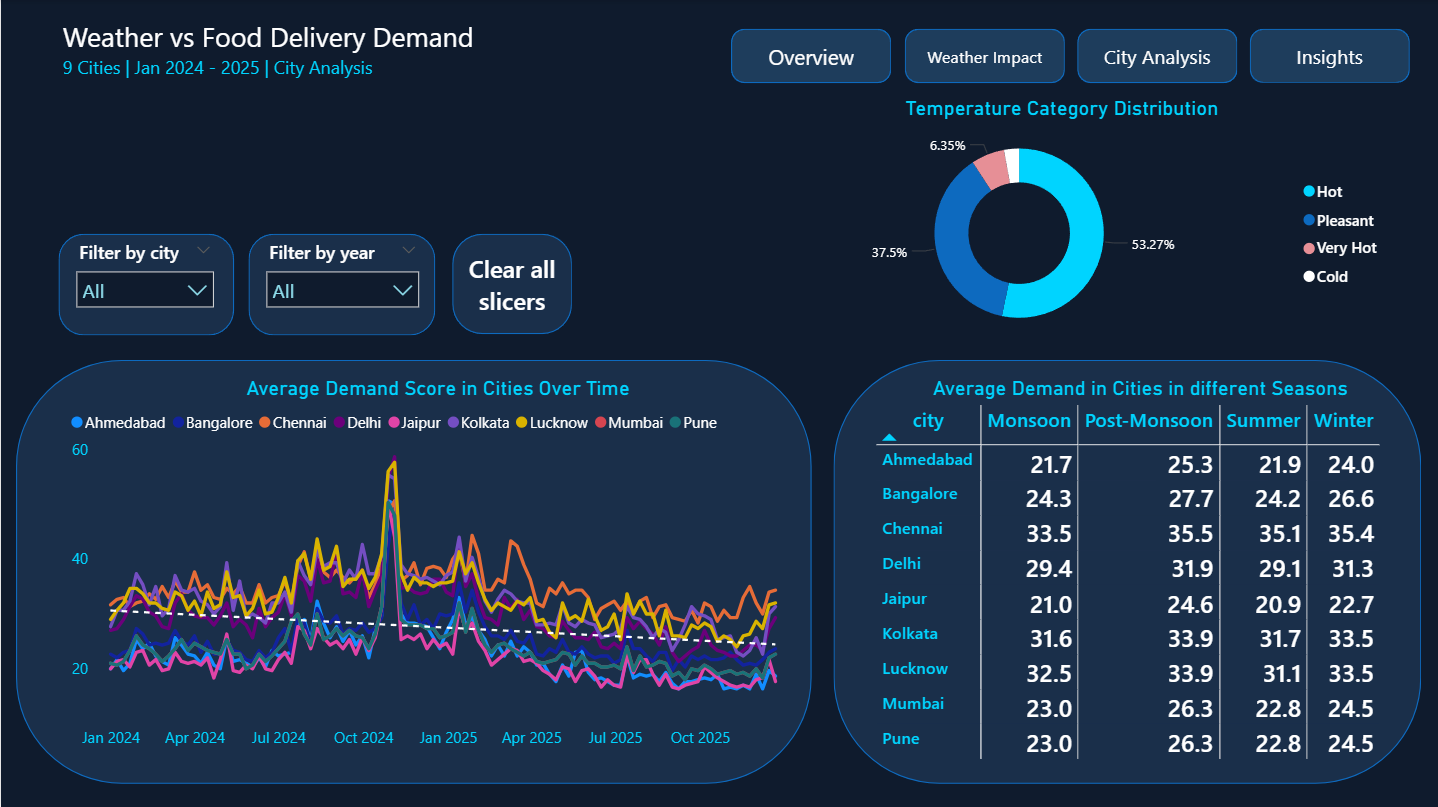

The page's visual inventory and layout, read from the dashboard file:
{"tool":"powerbi","page":{"name":"City Analysis","canvas":[1280,720],"ordinal":2},"visuals":[{"type":"actionButton","title":"Over","box":[650.4,26.1,142.7,48.4],"z":0},{"type":"actionButton","title":"Over","box":[804.4,26.1,142.7,48.4],"z":1000},{"type":"actionButton","title":"Over","box":[958.3,26.1,142.7,48.4],"z":2000},{"type":"actionButton","title":"Over","box":[1112.6,26,142.6,48.4],"z":3000},{"type":"shape","box":[13,321,708.6,377.4],"z":4000},{"type":"lineChart","title":"Average Demand Score in Cities Over Time","fields":{"Y":["Avg(weather_demand_final.demand_score)"],"Category":["weather_demand_final.date.Variation.Date Hierarchy.Year","weather_demand_final.date.Variation.Date Hierarchy.Quarter","weather_demand_final.date.Variation.Date Hierarchy.Month","weather_demand_final.date.Variation.Date Hierarchy.Day"],"Series":["weather_demand_final.city"]},"box":[56.4,335.5,665.2,341.3],"z":5000},{"type":"shape","box":[741.8,321,523.5,377.4],"z":6000},{"type":"pivotTable","title":"Average Demand in Cities in different Seasons","fields":{"Rows":["weather_demand_final.city"],"Columns":["weather_demand_final.season"],"Values":["weather_demand_final.Average demand score"]},"box":[775.1,335.5,480.1,363],"z":7000},{"type":"donutChart","title":"Temperature Category Distribution","fields":{"Category":["weather_demand_final.temp_category"],"Y":["CountNonNull(weather_demand_final.temp_category)"]},"box":[650.4,85.6,589.6,223.4],"z":8000},{"type":"shape","box":[50.9,208.5,156.4,90.6],"z":9000},{"type":"shape","box":[220.9,208.5,166.3,90.6],"z":10000},{"type":"slicer","fields":{"Values":["weather_demand_final.city"]},"box":[57.1,208.5,142.7,93.1],"z":11000},{"type":"slicer","fields":{"Values":["weather_demand_final.year"]},"box":[225.9,208.5,156.4,96.8],"z":12000},{"type":"actionButton","box":[402.2,208.5,106.8,89.4],"z":13000},{"type":"textbox","box":[50.6,11.6,404.9,76.6],"z":14000}]}

Visuals, with their boxes in screenshot pixels (x1, y1, x2, y2), scaled from the page's 1280x720 canvas onto the 1438x807 screenshot:
"Over" actionButton: Rect(731, 29, 891, 84)
"Over" actionButton: Rect(904, 29, 1064, 84)
"Over" actionButton: Rect(1077, 29, 1237, 84)
"Over" actionButton: Rect(1250, 29, 1410, 83)
shape: Rect(15, 360, 811, 783)
"Average Demand Score in Cities Over Time" lineChart: Rect(63, 376, 811, 759)
shape: Rect(833, 360, 1421, 783)
"Average Demand in Cities in different Seasons" pivotTable: Rect(871, 376, 1410, 783)
"Temperature Category Distribution" donutChart: Rect(731, 96, 1393, 346)
shape: Rect(57, 234, 233, 335)
shape: Rect(248, 234, 435, 335)
slicer - weather_demand_final.city: Rect(64, 234, 224, 338)
slicer - weather_demand_final.year: Rect(254, 234, 429, 342)
actionButton: Rect(452, 234, 572, 334)
textbox: Rect(57, 13, 512, 99)
